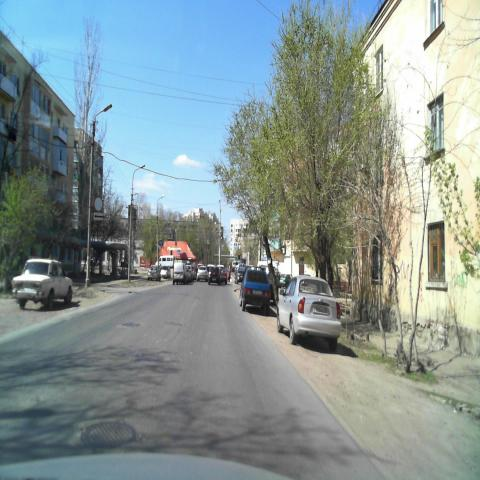3_2: (94, 196, 103, 212)
